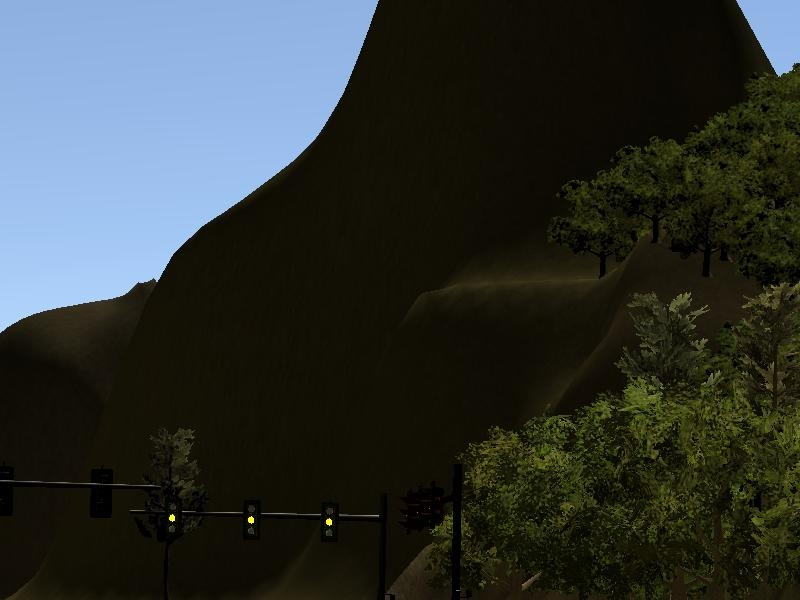YELLOW: (319, 500, 339, 539), (240, 499, 260, 538), (162, 497, 182, 536)
